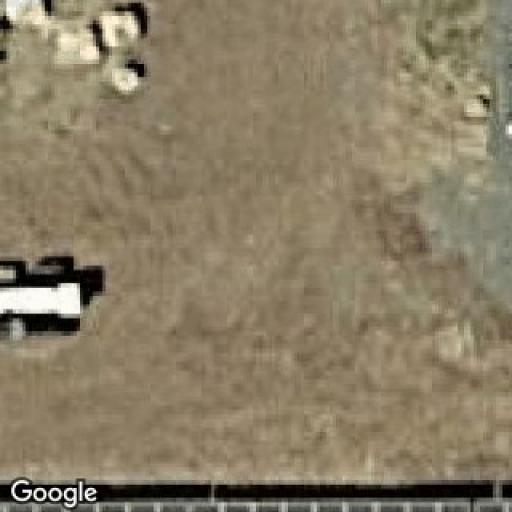solar-panel: (0, 496, 512, 512)
